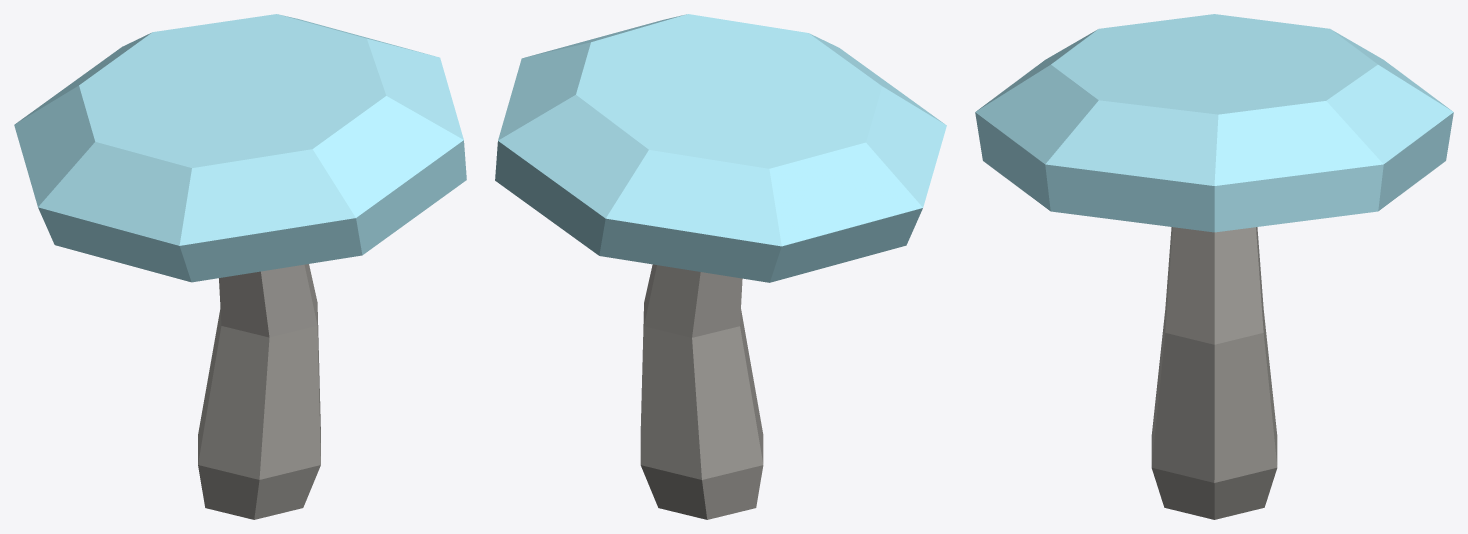
Rendered from GlowShroom1Flat.fbx.
The picture shows the model from 3 angles, left to right: view 1: azimuth 30°, elevation 25°; view 2: azimuth 150°, elevation 25°; view 3: azimuth 270°, elevation 25°; orthographic projection. The views are drawn at different scales.
Parts seen in each view (by area): view 1: GlowShroom1Flat; view 2: GlowShroom1Flat; view 3: GlowShroom1Flat.
Boxes of the visible parts, bbox=[...] form: GlowShroom1Flat: bbox=[14, 14, 466, 519]; GlowShroom1Flat: bbox=[495, 14, 946, 519]; GlowShroom1Flat: bbox=[975, 14, 1453, 519].
Bounding box in the file's own units: 9.08 × 9.16 × 9.07.
